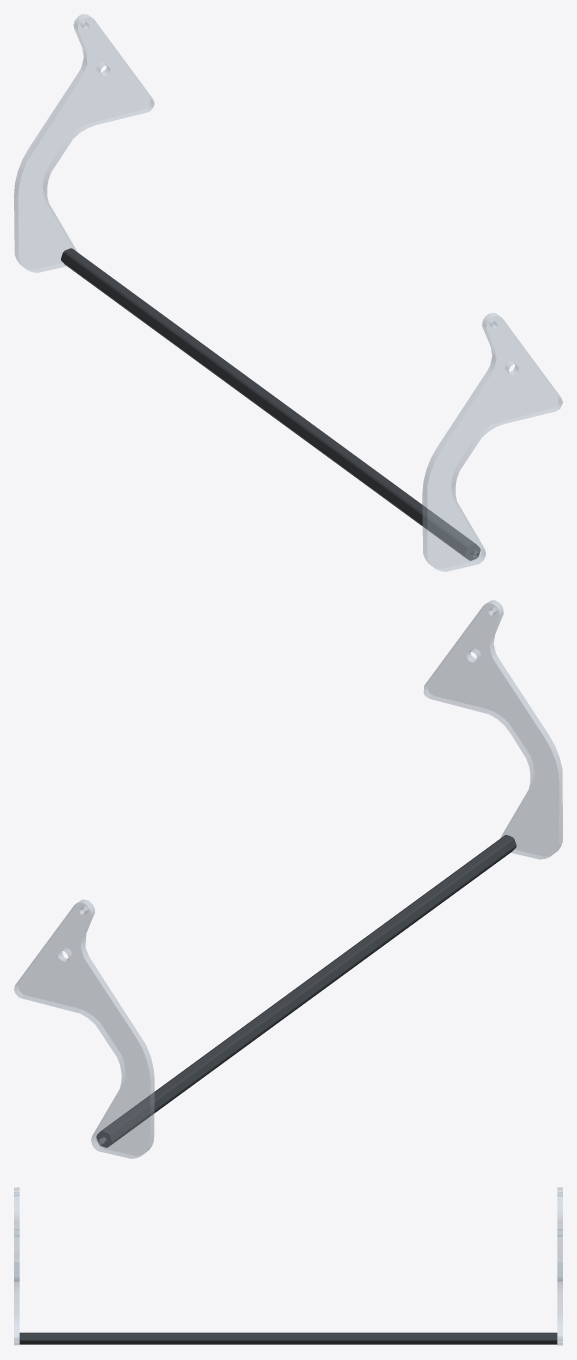
Rendered from 7769-kick.glb.
The picture shows the model from 3 angles, top to bottom: view 1: azimuth 30°, elevation 25°; view 2: azimuth 150°, elevation 25°; view 3: azimuth 270°, elevation 25°; orthographic projection. The views are drawn at different scales.
Parts seen in each view (by area): view 1: Kick Arm Fixed, 1/2" Rounded Hex (REV) (24.25 in); view 2: Kick Arm Fixed, 1/2" Rounded Hex (REV) (24.25 in); view 3: 1/2" Rounded Hex (REV) (24.25 in), Kick Arm Fixed.
Boxes of the visible parts, box(x1,y1,x2,y2) form: Kick Arm Fixed: box(14, 14, 562, 571); 1/2" Rounded Hex (REV) (24.25 in): box(61, 248, 480, 560); Kick Arm Fixed: box(14, 600, 562, 1158); 1/2" Rounded Hex (REV) (24.25 in): box(96, 835, 516, 1147); 1/2" Rounded Hex (REV) (24.25 in): box(19, 1332, 557, 1344); Kick Arm Fixed: box(14, 1187, 562, 1345).
Size of the model in its own units: 0.1201 by 0.2057 by 0.6287.
